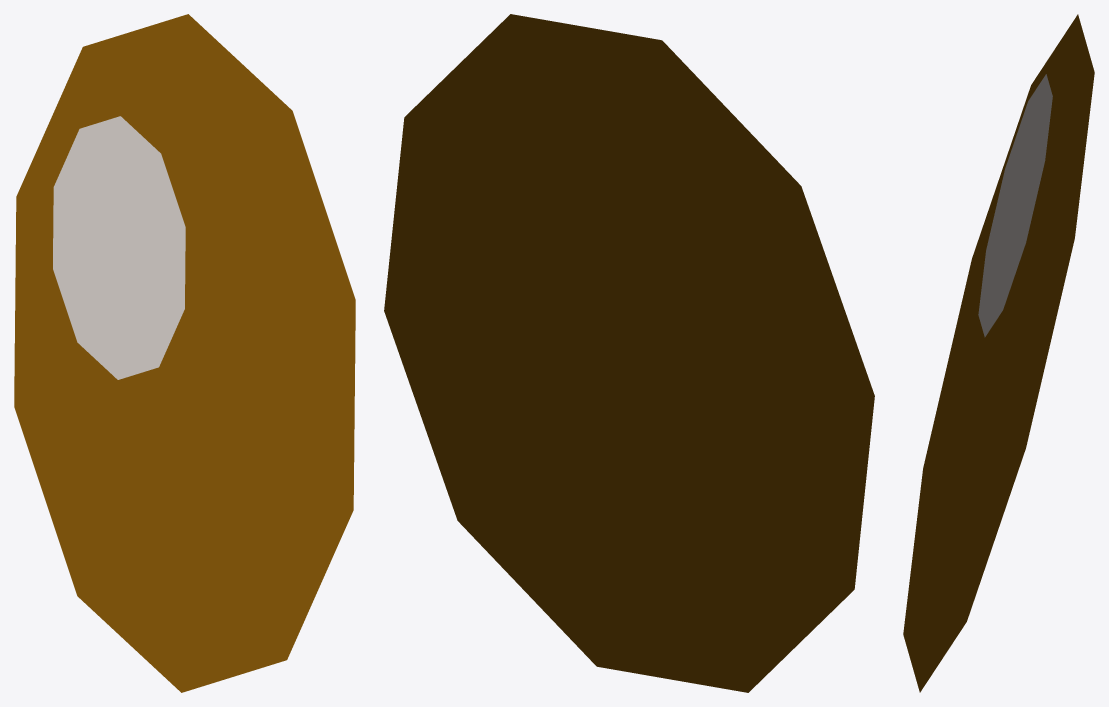
The model's file is scareCrowPupiBrownlLeft.glb.
3 views of the same model, side by side, from view 1: azimuth 30°, elevation 25°; view 2: azimuth 150°, elevation 25°; view 3: azimuth 270°, elevation 25° (orthographic). The views are drawn at different scales.
Visible parts, largest first — view 1: scareCrowPupiBrownlLeft; view 2: scareCrowPupiBrownlLeft; view 3: scareCrowPupiBrownlLeft.
Boxes of the visible parts, left/top/right/bottom form: scareCrowPupiBrownlLeft: left=14, top=14, right=355, bottom=692; scareCrowPupiBrownlLeft: left=384, top=14, right=874, bottom=692; scareCrowPupiBrownlLeft: left=903, top=14, right=1094, bottom=692.
Bounding box in the file's own units: 0.0319 × 0.0488 × 0.0138.
